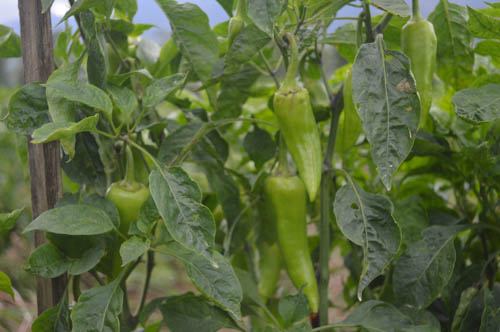ChiliPepper: (269, 172, 323, 308), (269, 87, 327, 200), (100, 180, 150, 276), (405, 22, 439, 129), (337, 71, 375, 160)
